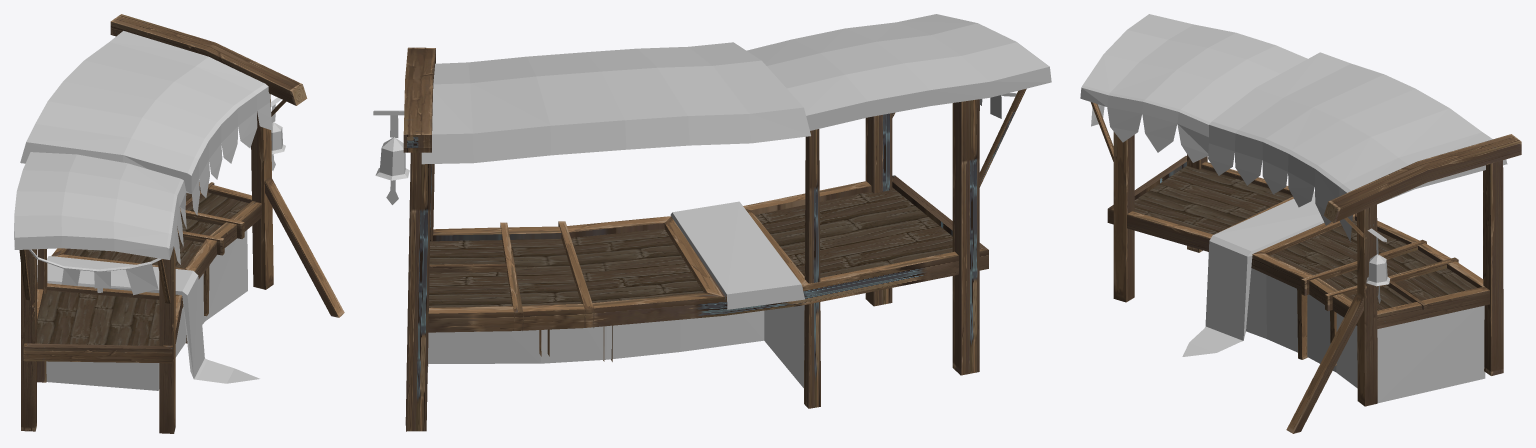
File: cs_xinzhucheng_zahuopu_001.FBX
3 renders of one model, left to right at view 1: azimuth 30°, elevation 25°; view 2: azimuth 150°, elevation 25°; view 3: azimuth 270°, elevation 25°, orthographic. The views are drawn at different scales.
Parts seen in each view (by area): view 1: cs_xinzhucheng_zahuopu_001; view 2: cs_xinzhucheng_zahuopu_001; view 3: cs_xinzhucheng_zahuopu_001.
Part boxes in pixels (x1=…): cs_xinzhucheng_zahuopu_001: x1=14, y1=14, x2=344, y2=433; cs_xinzhucheng_zahuopu_001: x1=373, y1=14, x2=1051, y2=431; cs_xinzhucheng_zahuopu_001: x1=1080, y1=14, x2=1521, y2=433.
Bounding box in the file's own units: 108 × 62.04 × 103.
